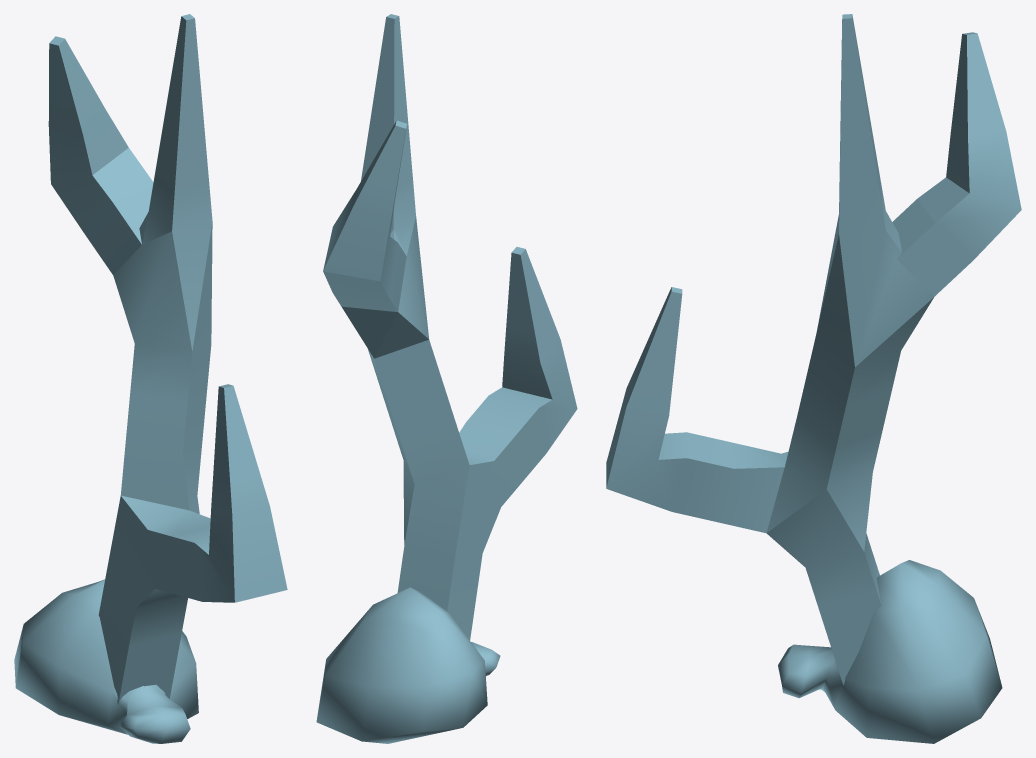
Rendered from cavespikeC.fbx.
The picture shows the model from 3 angles, left to right: view 1: azimuth 30°, elevation 25°; view 2: azimuth 150°, elevation 25°; view 3: azimuth 270°, elevation 25°; orthographic projection. The views are drawn at different scales.
Parts seen in each view (by area): view 1: Plane.002, Cube; view 2: Plane.002, Cube; view 3: Plane.002, Cube.
Boxes of the visible parts, bbox=[...] form: Plane.002: bbox=[48, 14, 287, 705]; Cube: bbox=[14, 579, 198, 743]; Plane.002: bbox=[323, 14, 577, 640]; Cube: bbox=[316, 587, 500, 743]; Plane.002: bbox=[606, 14, 1021, 685]; Cube: bbox=[778, 560, 1002, 743].
Bounding box in the file's own units: 93.39 × 403 × 212.
